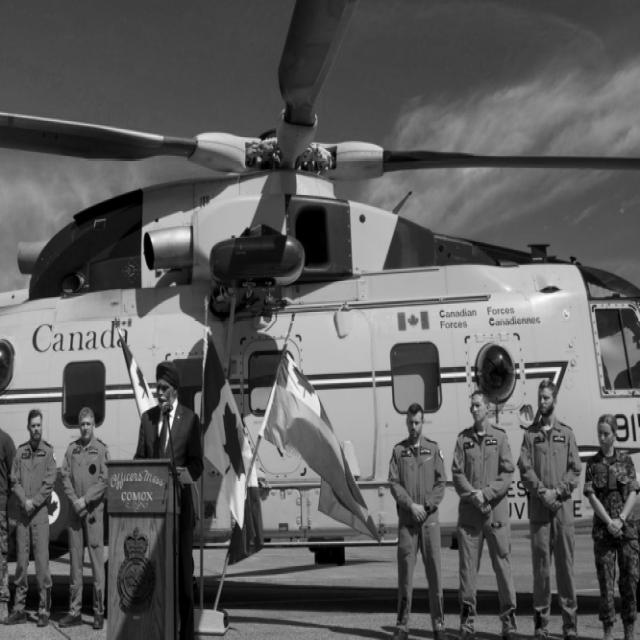helicopter: (1, 15, 640, 614)
